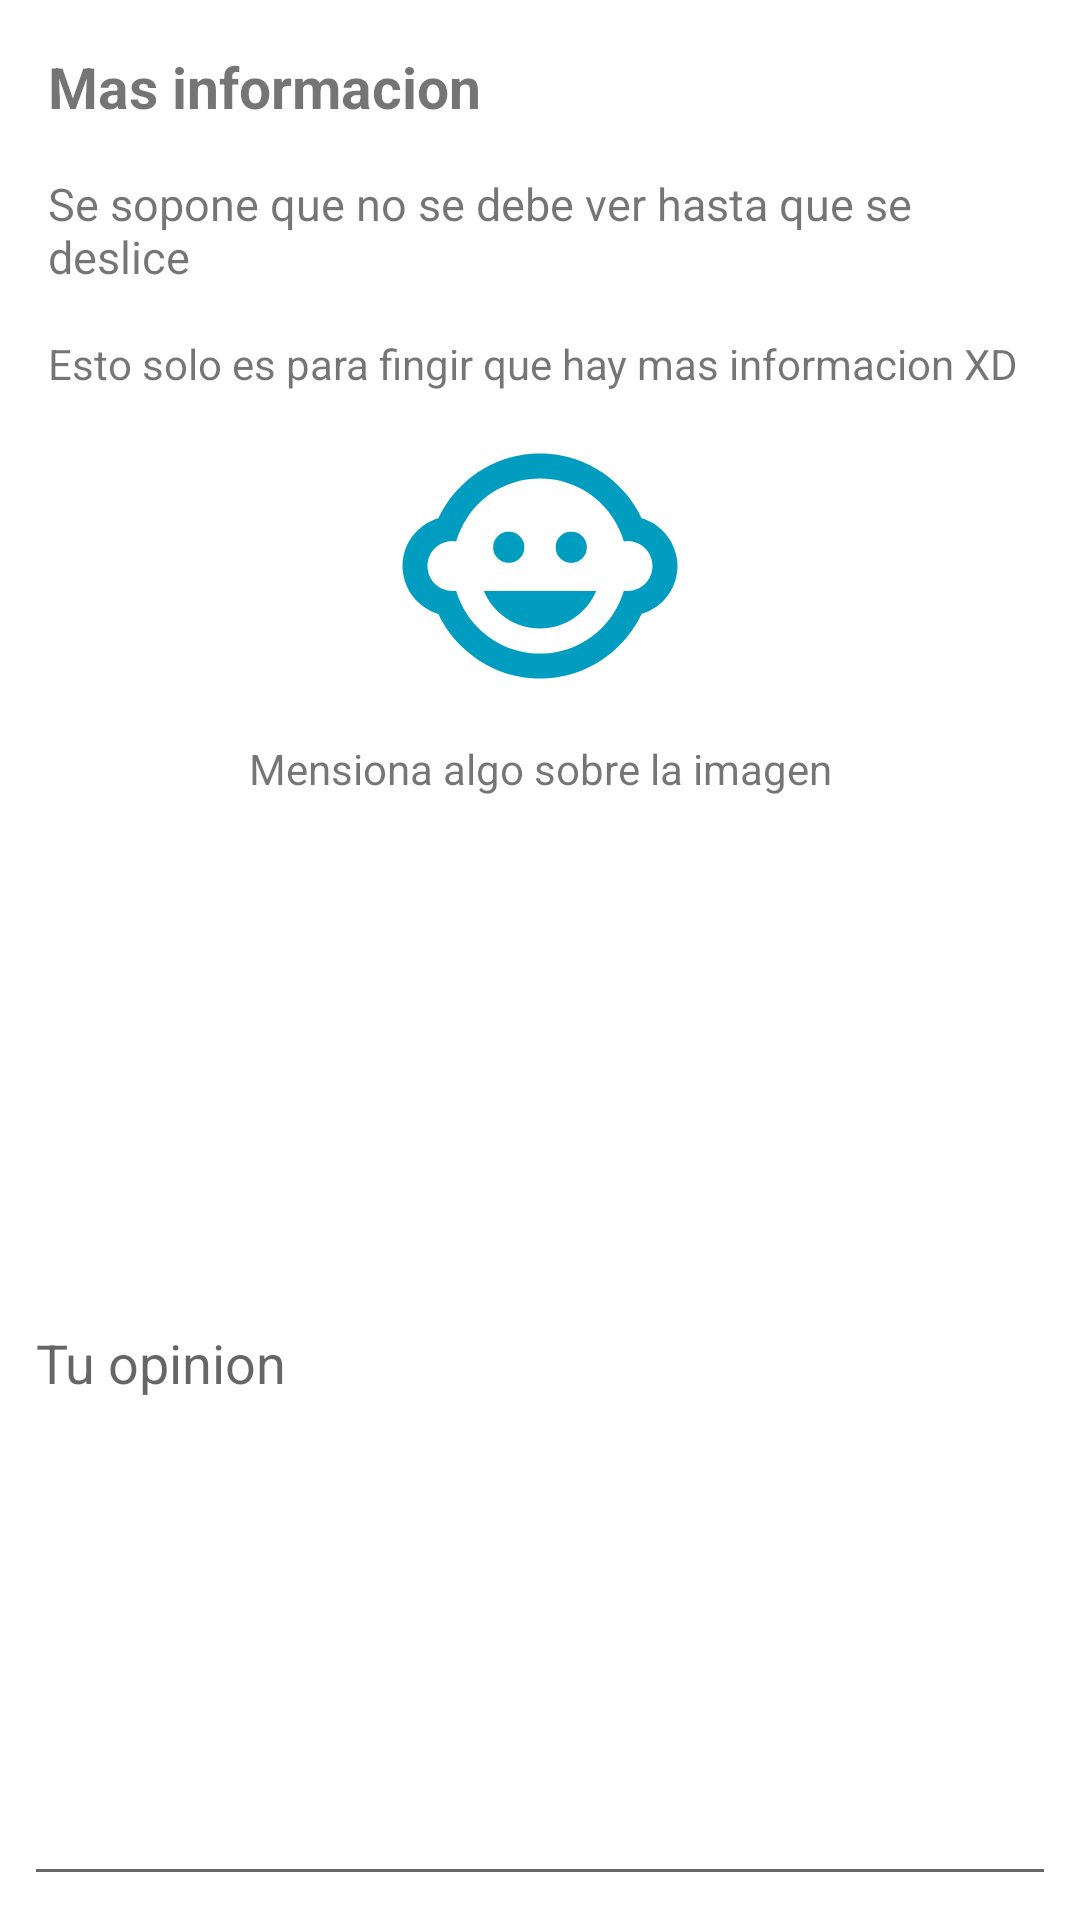

Named icons in this screenshot (1080 × 1920) and their bounding boxes, (x1, y1, x2, y2):
usuario: (402, 453, 678, 679)
